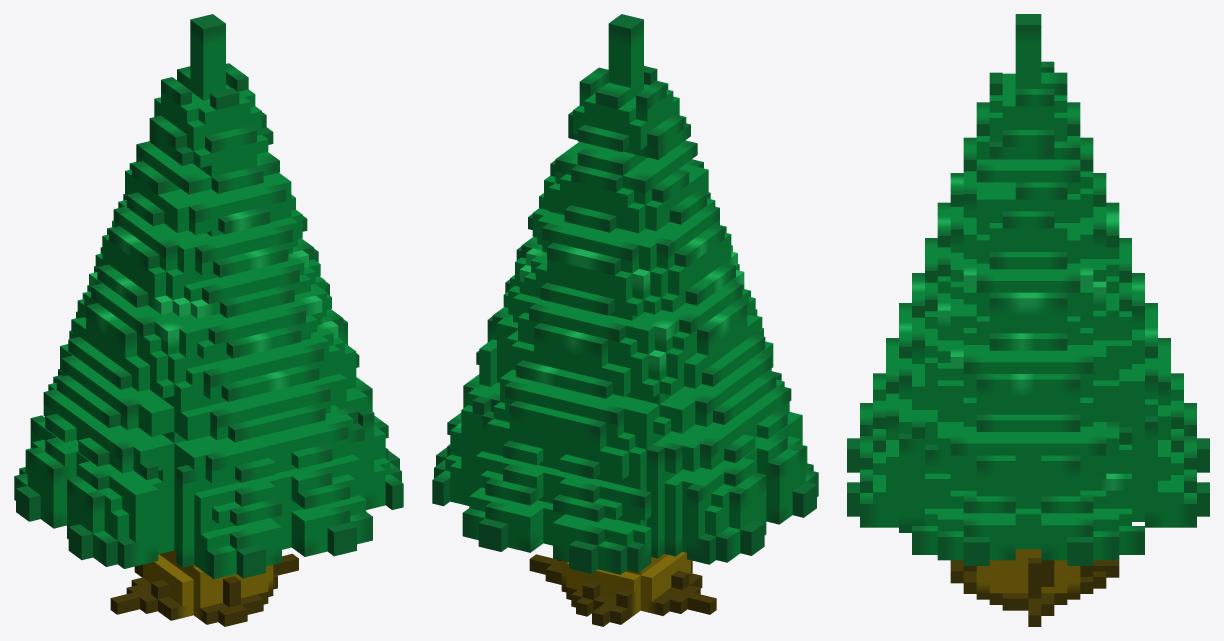
Rendered from Tree_Pine.fbx.
3 views of the same model, side by side, from view 1: azimuth 30°, elevation 25°; view 2: azimuth 150°, elevation 25°; view 3: azimuth 270°, elevation 25° (orthographic).
Parts seen in each view (by area): view 1: Union; view 2: Union; view 3: Union.
Boxes of the visible parts, left/top/right/bottom form: Union: left=14, top=14, right=403, bottom=626; Union: left=432, top=14, right=818, bottom=626; Union: left=847, top=14, right=1209, bottom=626.
Size of the model in its own units: 28 by 48 by 28.
1 material, 1 textured.
